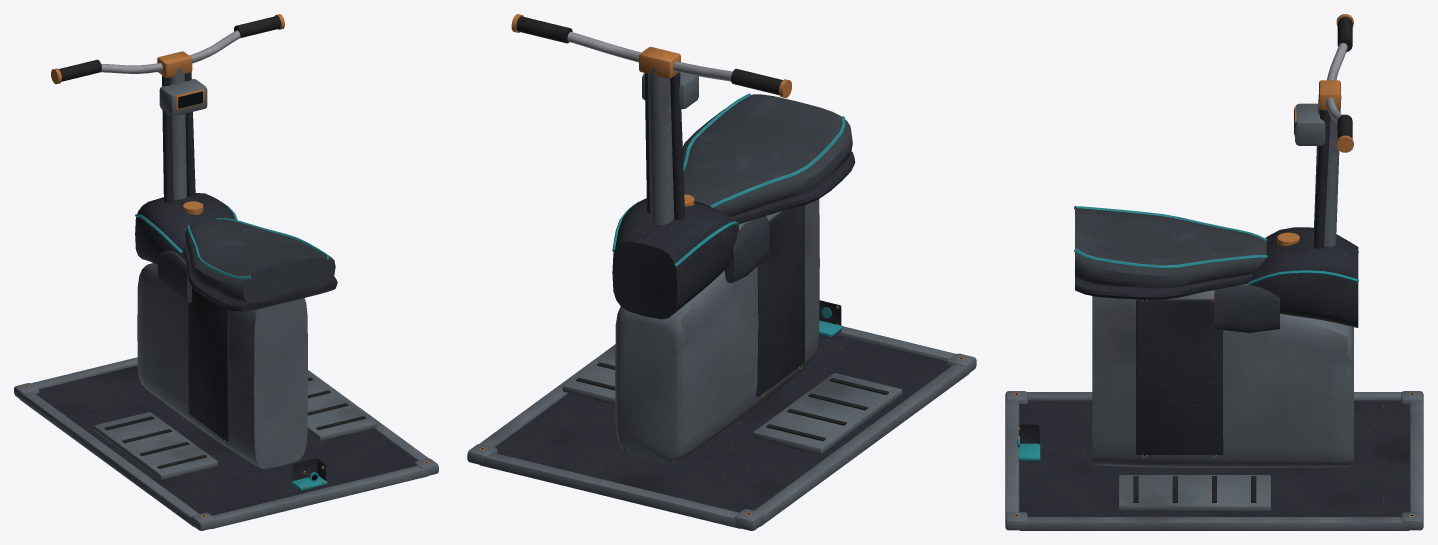
File: drivers_saddle_2.glb
3 views of the same model, side by side, from view 1: azimuth 30°, elevation 25°; view 2: azimuth 150°, elevation 25°; view 3: azimuth 270°, elevation 25° (orthographic). The views are drawn at different scales.
Parts seen in each view (by area): view 1: Base, Cushion, SaddlePan; view 2: Base, Cushion, SaddlePan; view 3: Base, Cushion, SaddlePan.
Boxes of the visible parts, x1,y1,x2,y2 form: Base: (14,14,438,530); Cushion: (185,218,335,303); SaddlePan: (183,245,337,311); Base: (467,14,976,530); Cushion: (682,93,852,216); SaddlePan: (730,151,855,223); Base: (1005,14,1423,530); Cushion: (1074,206,1267,288); SaddlePan: (1075,273,1252,299).
Size of the model in its own units: 0.71 by 0.9895 by 0.96.
10 materials, 7 textured.
